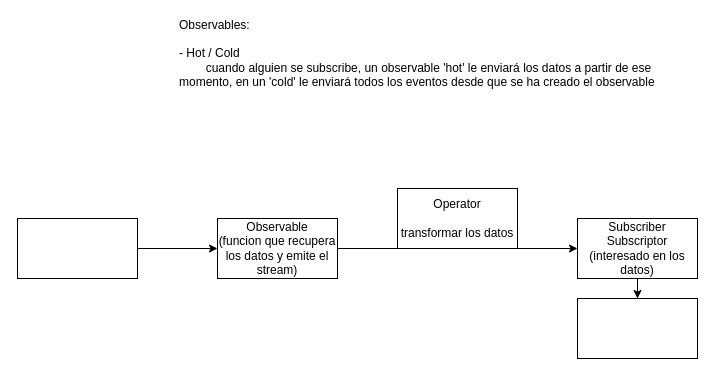
This 715x376 diagram has some shape labels left out. The box of each missing label's shape, as (x1, y1, x2, y2) in pixels:
Observer Observador (sabe interpretar los datos): (576, 298, 698, 358)
Productor (produce los datos): (16, 218, 138, 278)
